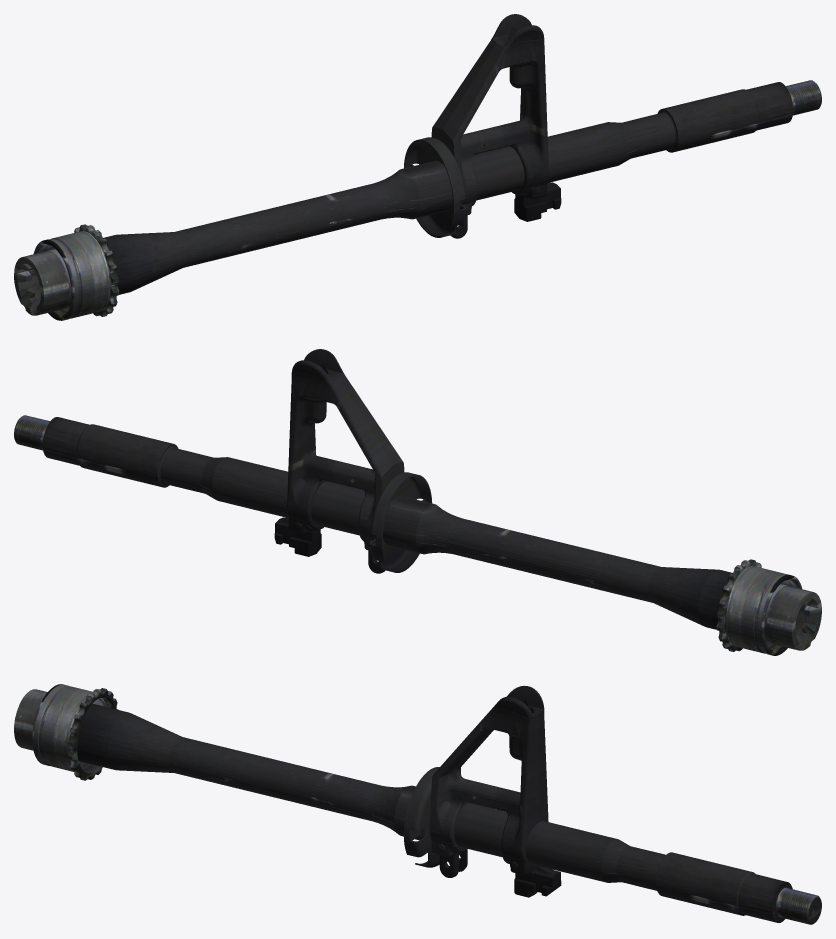
Rendered from Barrel_Assembly.dae.
3 views of the same model, one above another, from view 1: azimuth 30°, elevation 25°; view 2: azimuth 150°, elevation 25°; view 3: azimuth 330°, elevation 25° (orthographic).
Visible parts, largest first — view 1: Barrel_Assembly; view 2: Barrel_Assembly; view 3: Barrel_Assembly.
Boxes of the visible parts, <box> form: Barrel_Assembly: <box>14,14,821,320</box>; Barrel_Assembly: <box>14,349,821,655</box>; Barrel_Assembly: <box>14,684,821,924</box>.
Size of the model in its own units: 0.3718 by 0.0412 by 0.09.
1 material, 1 textured.
